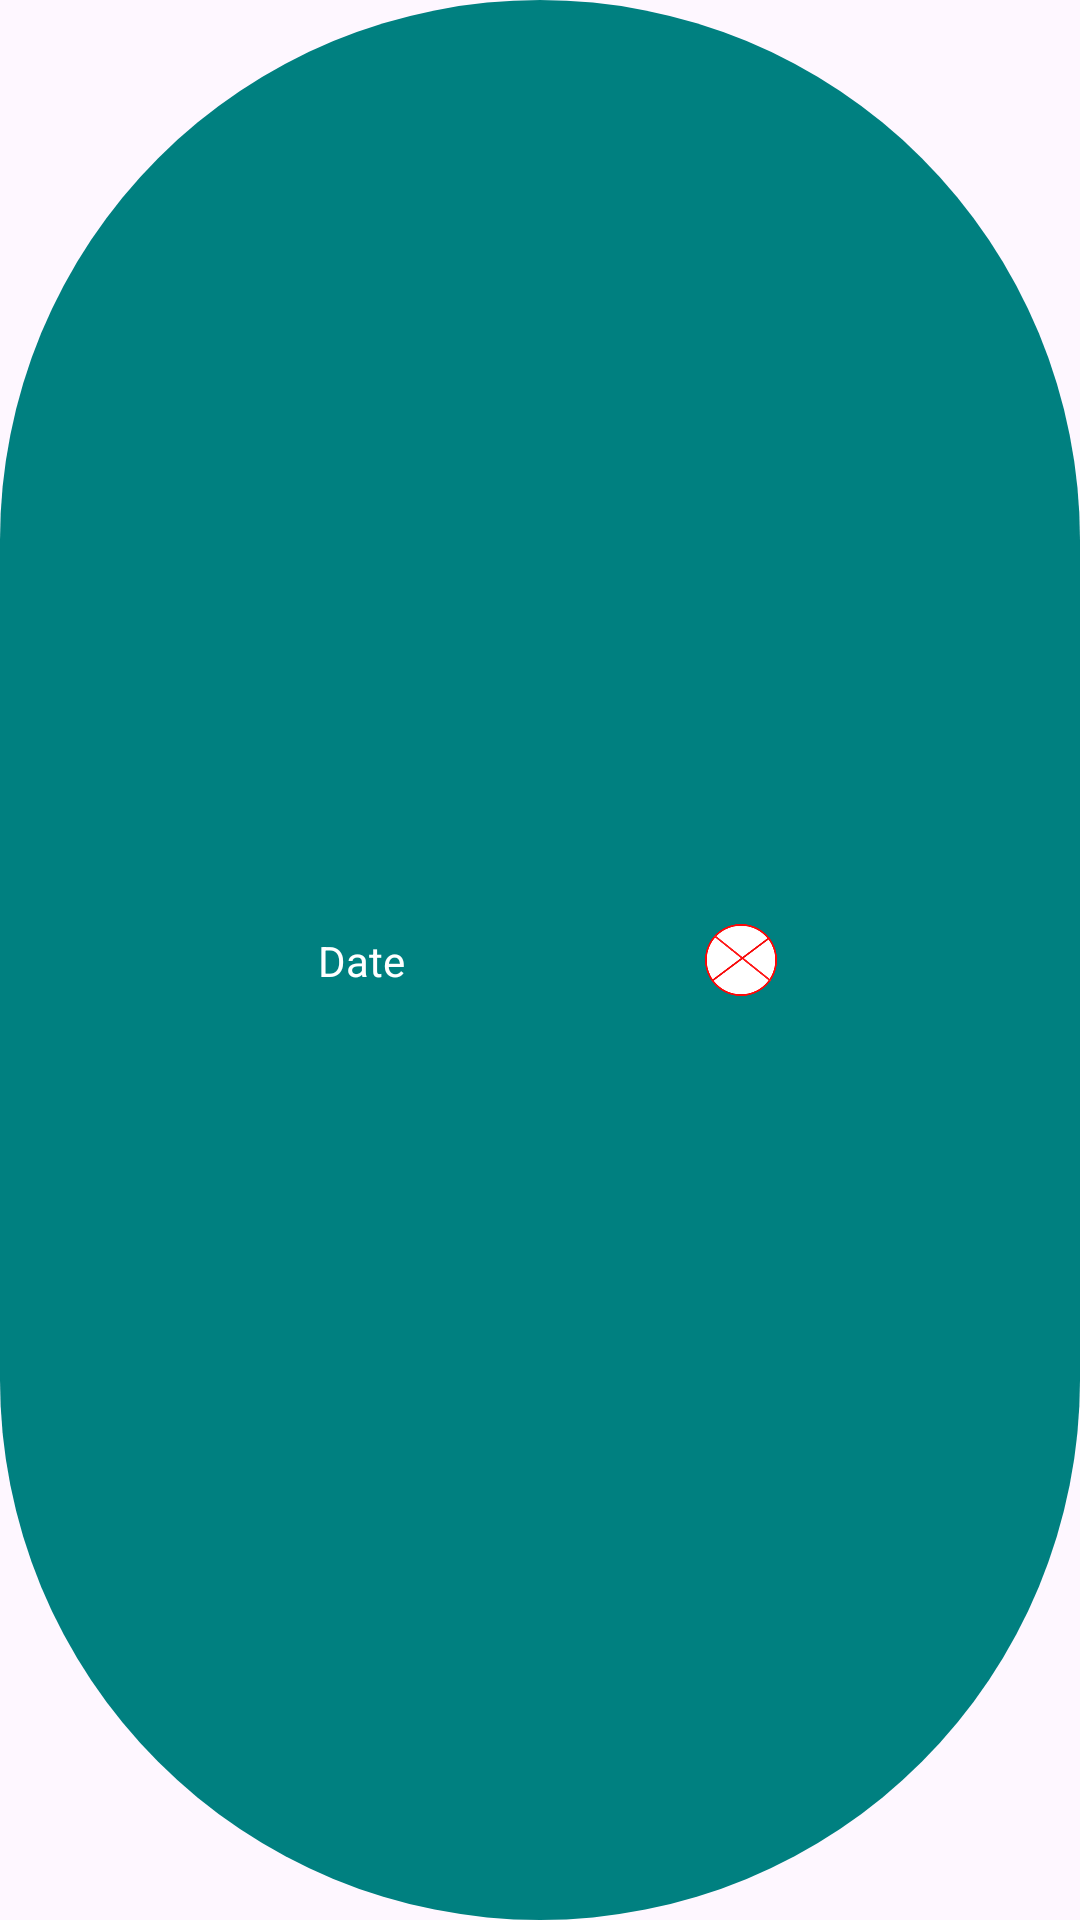

Icon bounding boxes for this 1080*1920 phone screenshot, format detection(x1, y1, x2, y2):
filter cancel: detection(705, 924, 777, 996)
